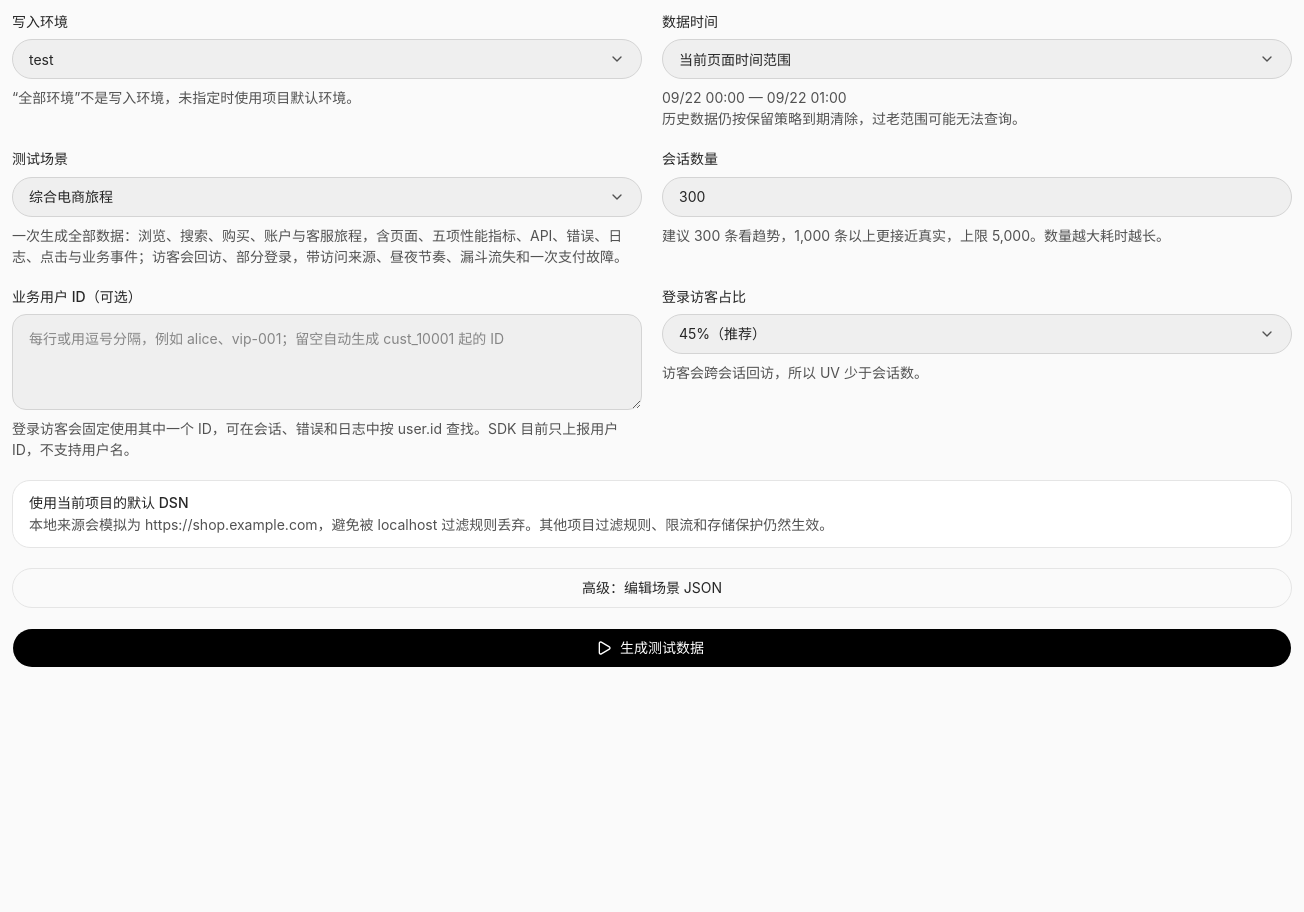
Scenario: development generator › does not claim queryability when ingest drops the batch
This screenshot has width=1304, height=912.
What coordinates should you click on to do the following:
click the button "生成测试数据"
I would click on:
 (652, 648)
Its box is [12,628,1292,668].
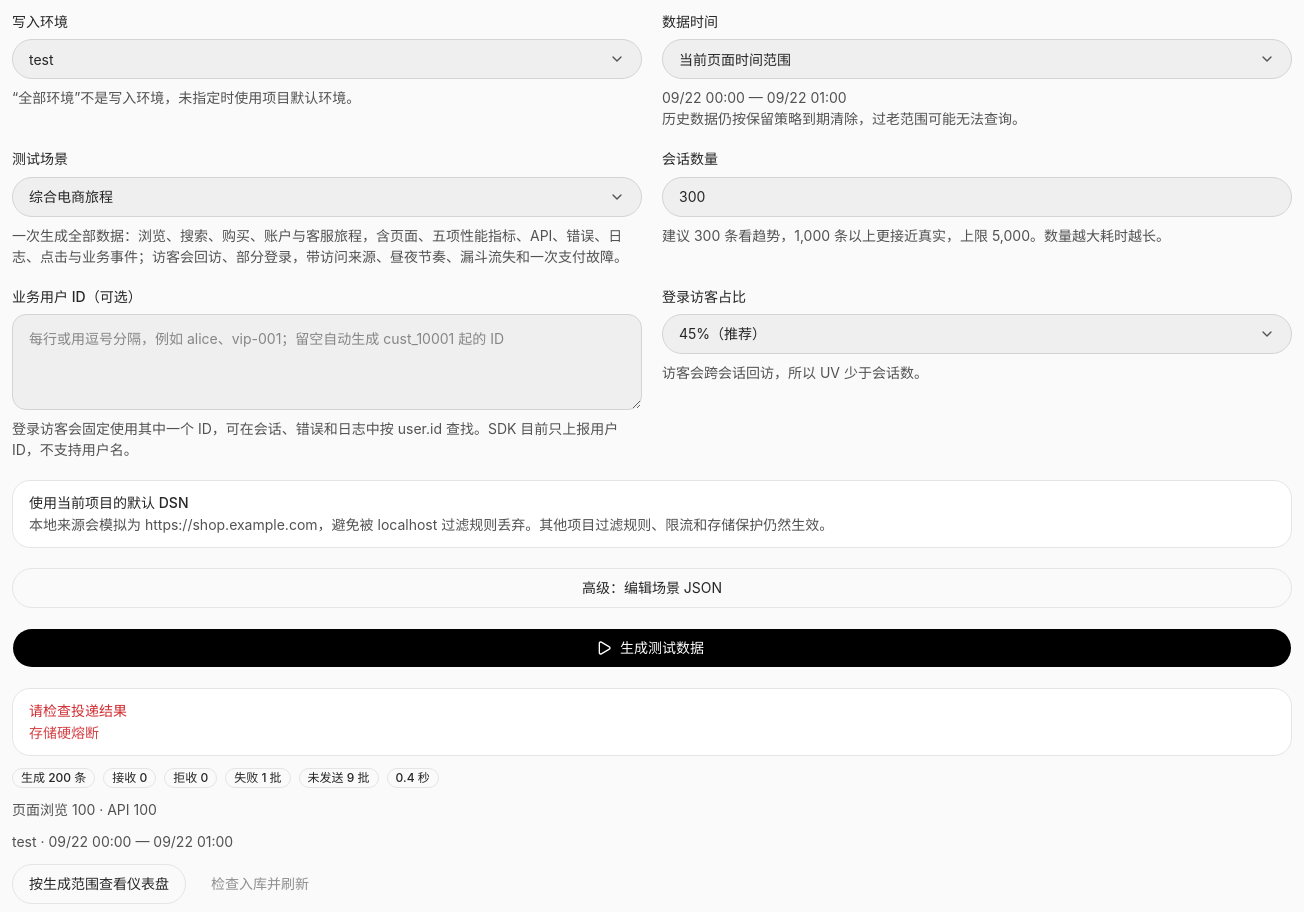
Result: the text "存储硬熔断" is shown at [29,724,99,741]
